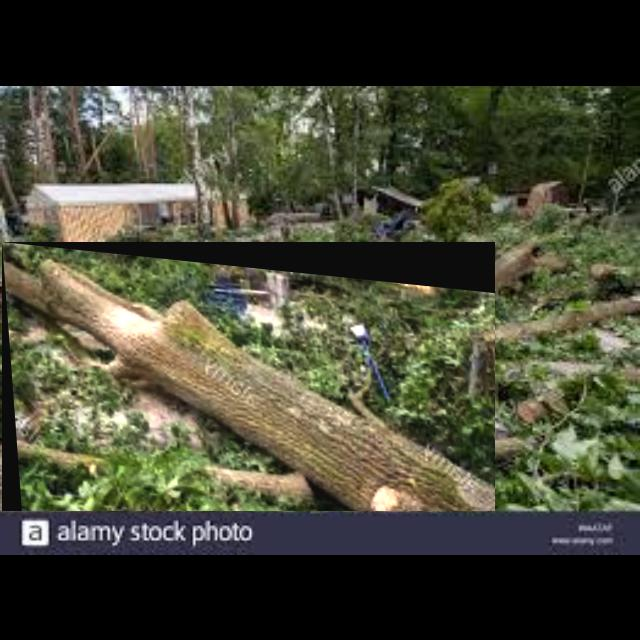Fallen Tree: (2, 242, 496, 512)
